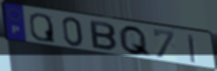0: (60, 16, 85, 48)
7: (152, 27, 177, 60)
B: (89, 19, 119, 53)
I: (187, 33, 197, 65)
Q: (118, 25, 154, 59), (28, 12, 57, 45)
